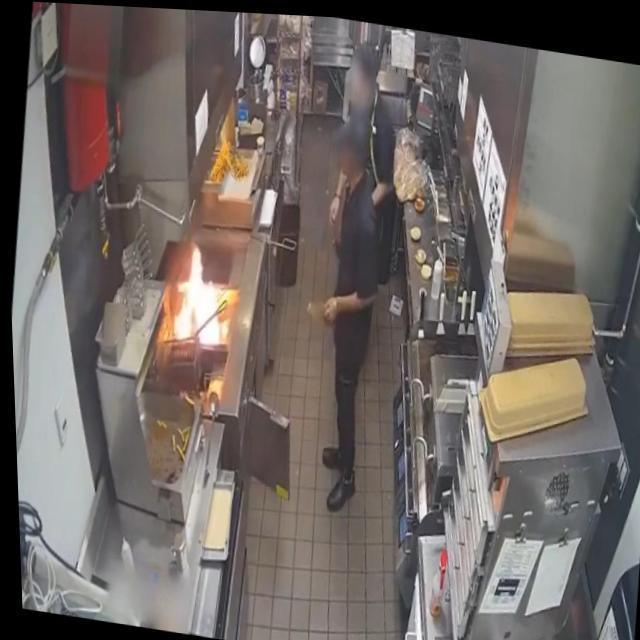fire: (158, 232, 235, 348)
